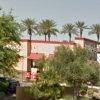Tree: (22, 9, 99, 42)
